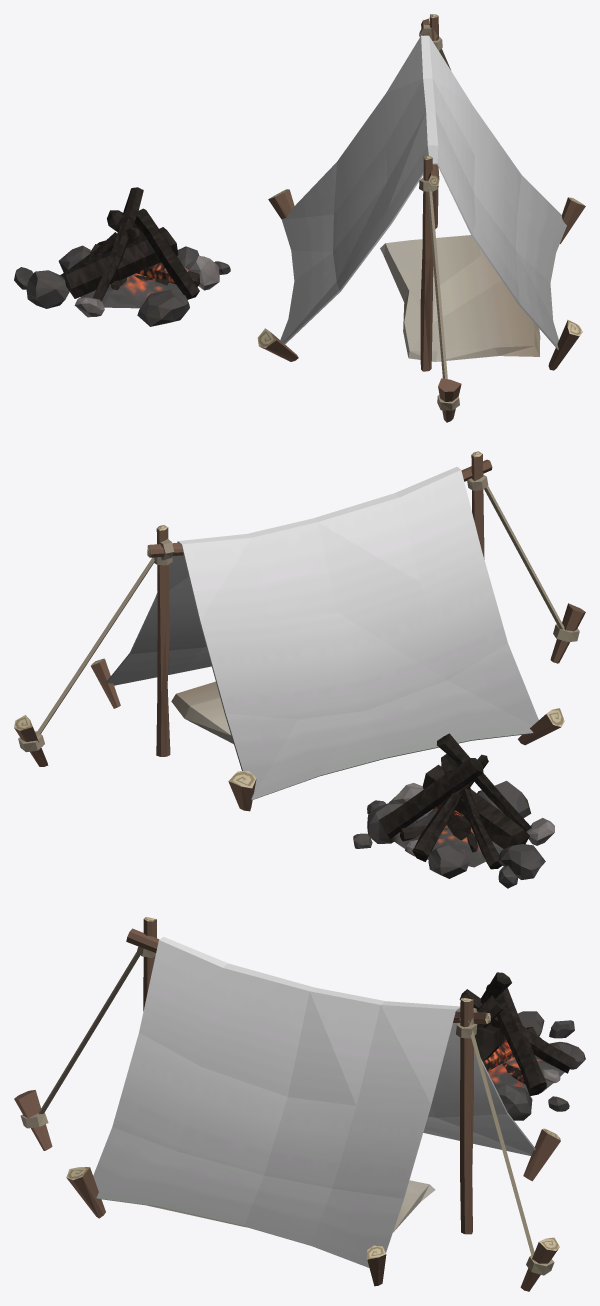
The model's file is safecamp01.fbx.
3 views of the same model, one above another, from view 1: azimuth 30°, elevation 25°; view 2: azimuth 150°, elevation 25°; view 3: azimuth 270°, elevation 25° (orthographic). The views are drawn at different scales.
Visible parts, largest first — view 1: safecamp01; view 2: safecamp01; view 3: safecamp01.
Part boxes in pixels (x1,y1,x2,y2): safecamp01: [14, 14, 585, 422]; safecamp01: [14, 451, 585, 888]; safecamp01: [14, 917, 585, 1291].
Size of the model in its own units: 5.02 by 2.21 by 4.63.
3 materials, 3 textured.
